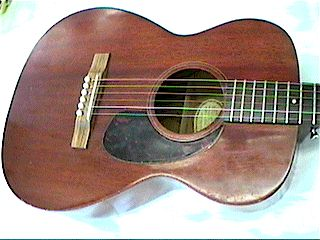guitar: (1, 8, 320, 217)
